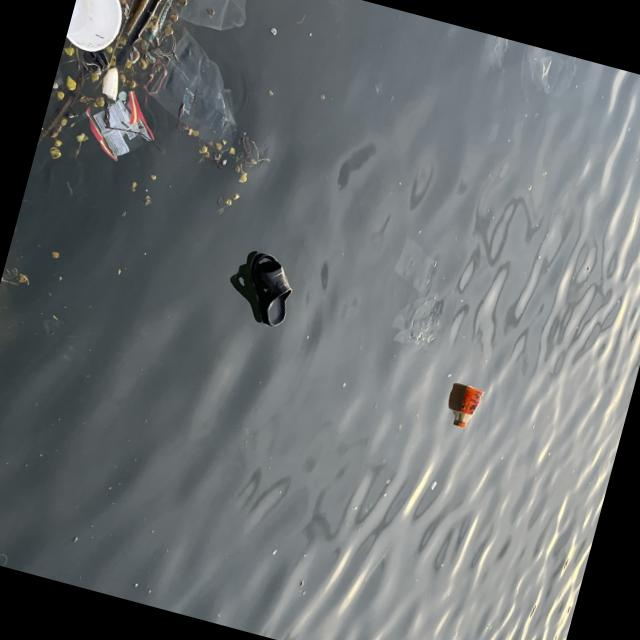foam: (63, 1, 131, 58)
plastic bag: (90, 87, 149, 164)
plastic bottle: (455, 384, 485, 430)
